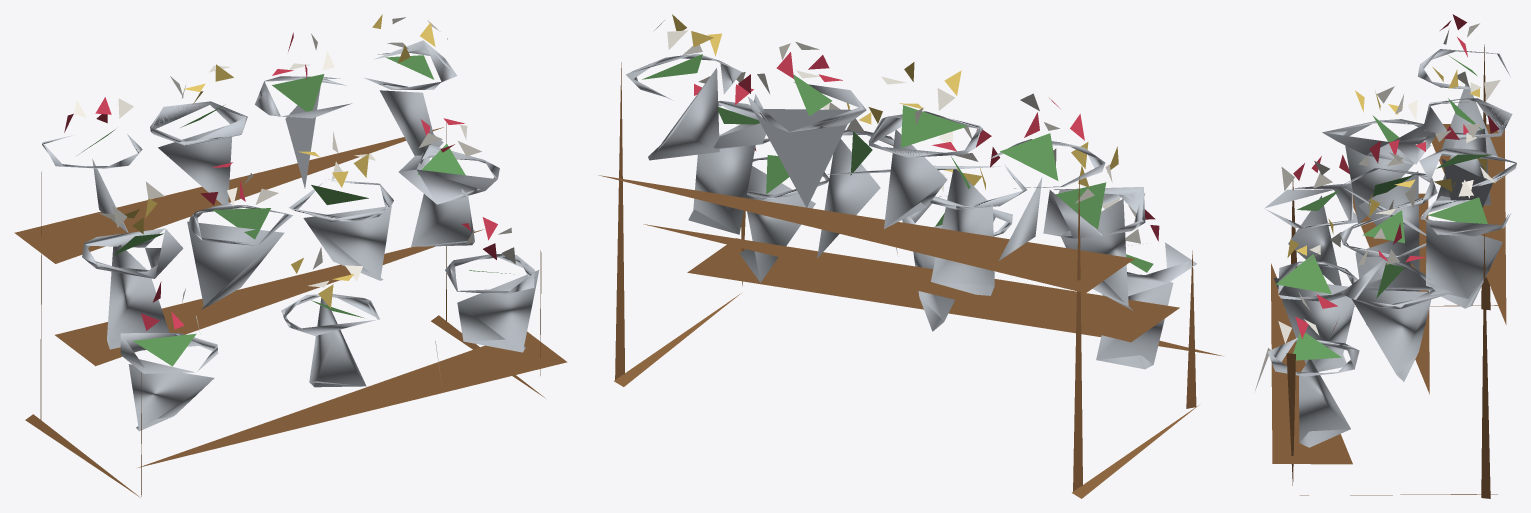
Rendered from lod_flower_buckets.glb.
3 renders of one model, left to right at view 1: azimuth 30°, elevation 25°; view 2: azimuth 150°, elevation 25°; view 3: azimuth 270°, elevation 25°, orthographic. The views are drawn at different scales.
Parts seen in each view (by area): view 1: flower_buckets; view 2: flower_buckets; view 3: flower_buckets.
Boxes of the visible parts, bbox=[...] form: flower_buckets: bbox=[14, 14, 567, 497]; flower_buckets: bbox=[599, 14, 1223, 498]; flower_buckets: bbox=[1255, 14, 1516, 498].
Size of the model in its own units: 1.5 by 1.09 by 0.8244.
